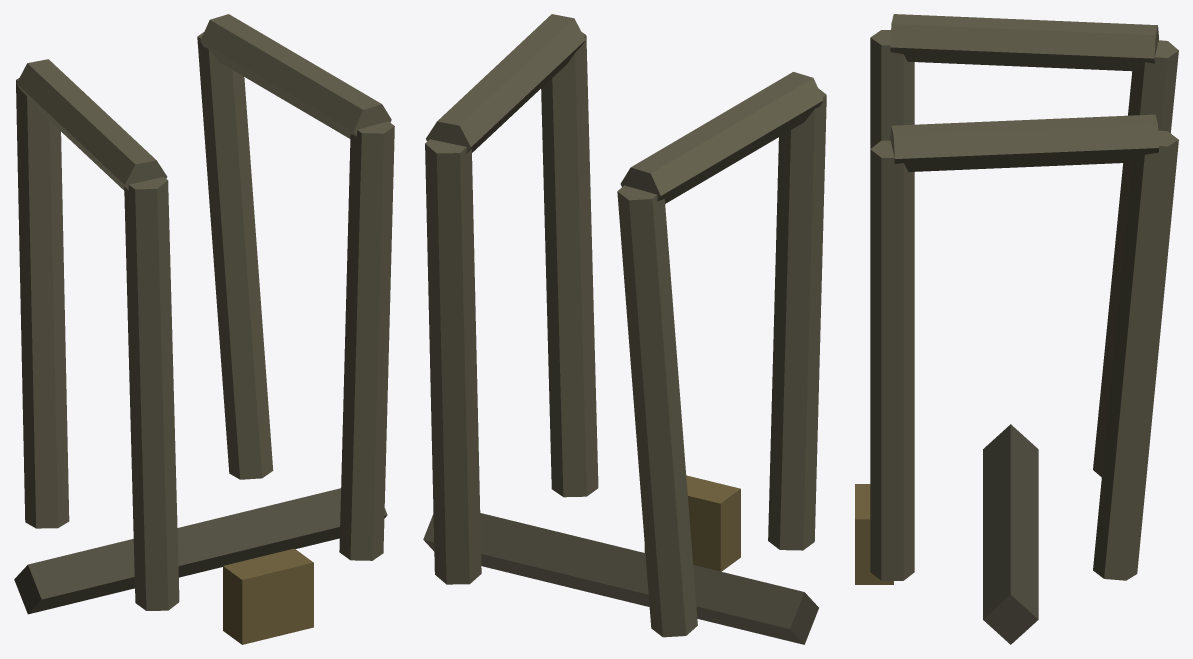
Rendered from webbing_rig.glb.
The picture shows the model from 3 angles, left to right: view 1: azimuth 30°, elevation 25°; view 2: azimuth 150°, elevation 25°; view 3: azimuth 270°, elevation 25°; orthographic projection. The views are drawn at different scales.
Visible parts, largest first — view 1: webbing_rig; view 2: webbing_rig; view 3: webbing_rig.
Boxes of the visible parts, bbox=[...] form: webbing_rig: bbox=[14, 14, 394, 644]; webbing_rig: bbox=[423, 14, 826, 644]; webbing_rig: bbox=[855, 14, 1178, 644].
Size of the model in its own units: 0.29 by 0.3907 by 0.2329.
1 material, 1 textured.
